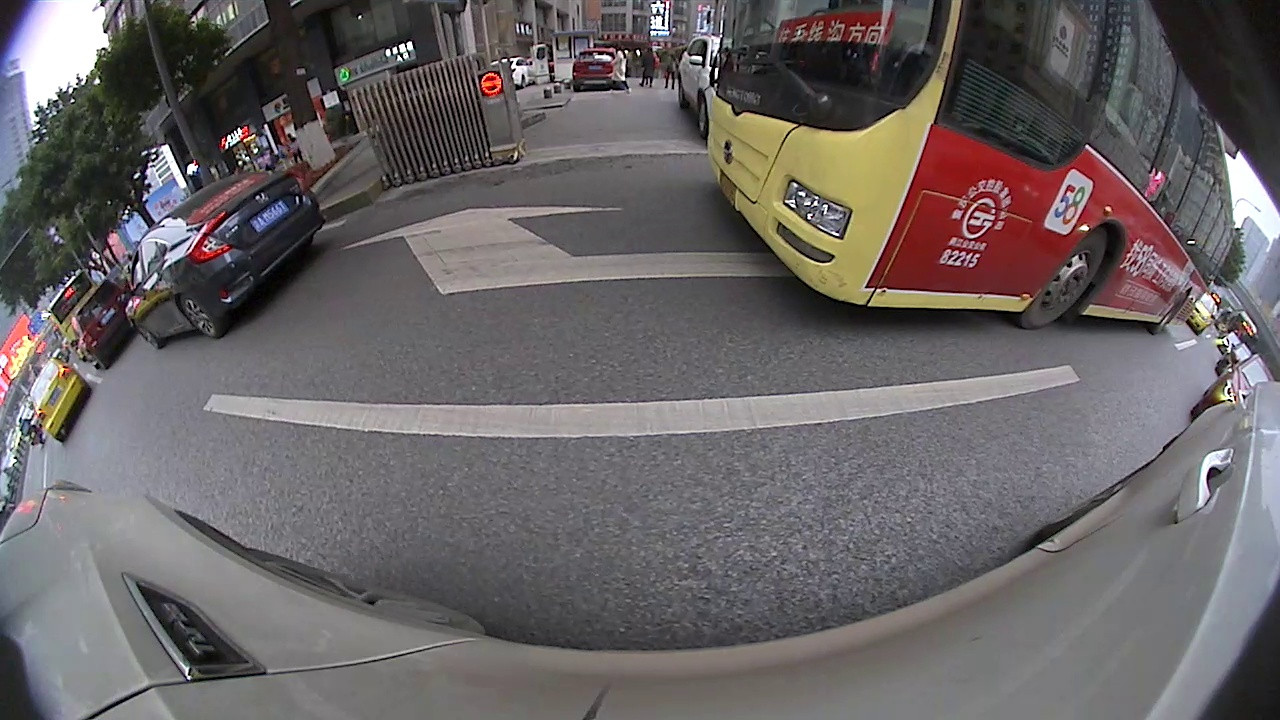car: (111, 76, 489, 325), (1026, 198, 1184, 365), (853, 124, 1015, 219), (546, 51, 721, 126), (354, 66, 526, 142), (1192, 393, 1269, 497)
front: (257, 238, 339, 322), (906, 164, 937, 191), (567, 94, 592, 122)
rear: (137, 276, 187, 323), (1106, 324, 1141, 363), (670, 102, 697, 126), (978, 196, 1000, 219)
